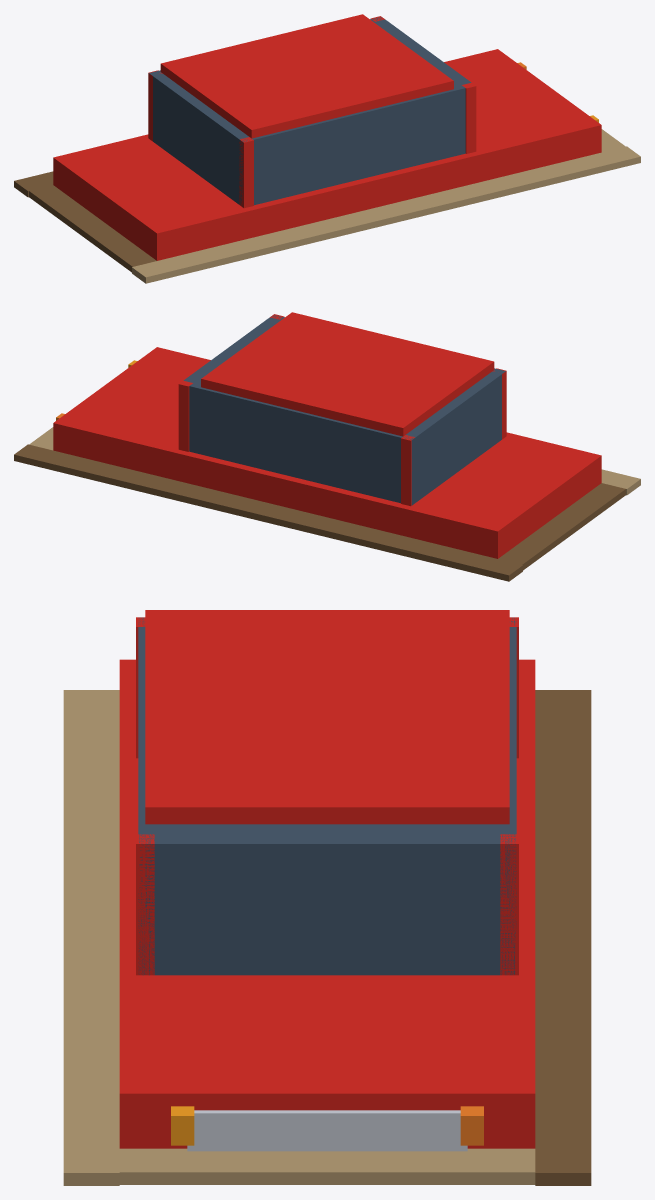
File: auto_inundado_0.obj
3 renders of one model, top to bottom at view 1: azimuth 30°, elevation 25°; view 2: azimuth 150°, elevation 25°; view 3: azimuth 270°, elevation 25°, orthographic. The views are drawn at different scales.
Visible parts, largest first — view 1: auto_inundado_0; view 2: auto_inundado_0; view 3: auto_inundado_0.
Boxes of the visible parts, x1,y1,x2,y2 form: auto_inundado_0: [14, 14, 640, 283]; auto_inundado_0: [14, 312, 640, 581]; auto_inundado_0: [63, 610, 591, 1185].
Bounding box in the file's own units: 4.9 × 1.02 × 2.26.
